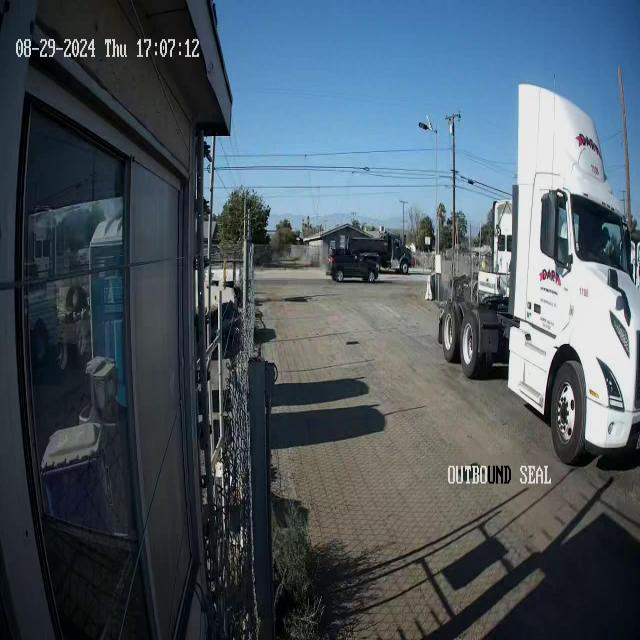BOBTAIL: (436, 79, 640, 466)
